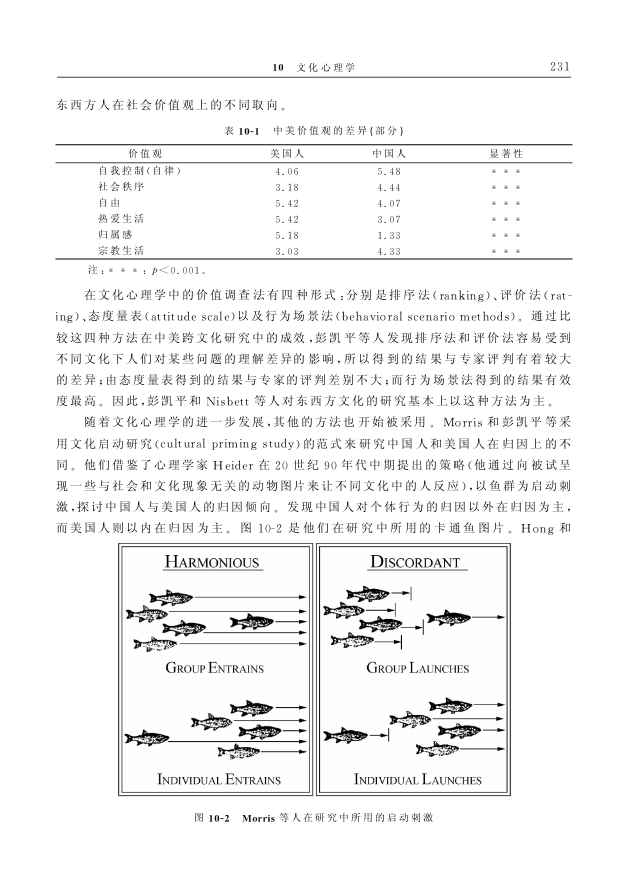table: (55, 144, 573, 259)
